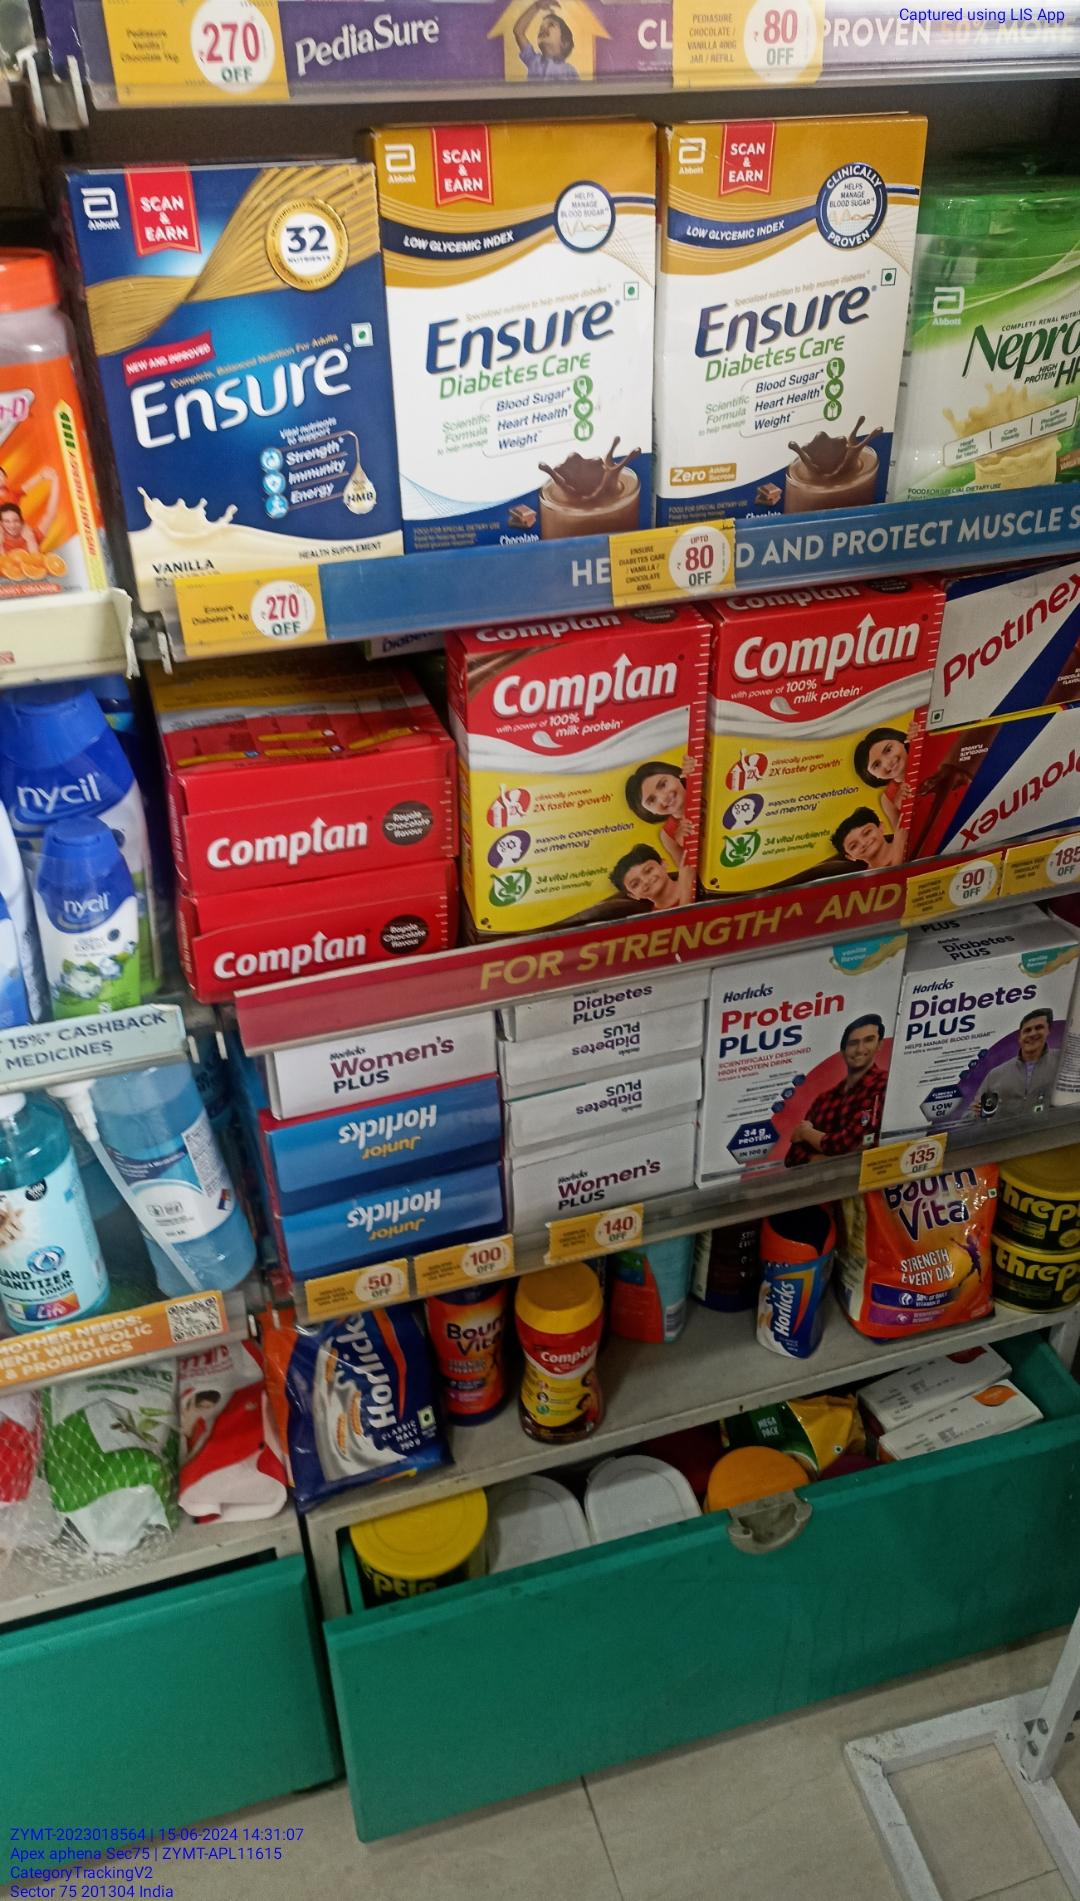COMPLAN_CHOCOLATE_200_GMS_JAR: (516, 1280, 609, 1444)
COMPLAN_CHOCOLATE_500_GMS_PACK: (471, 642, 703, 907), (712, 628, 917, 892)
ENSURE_VANILLA_400_G_PACK: (93, 166, 377, 542)
HORLICK_CLASSIC_MALT_200_G_JAR: (757, 1222, 825, 1360)
